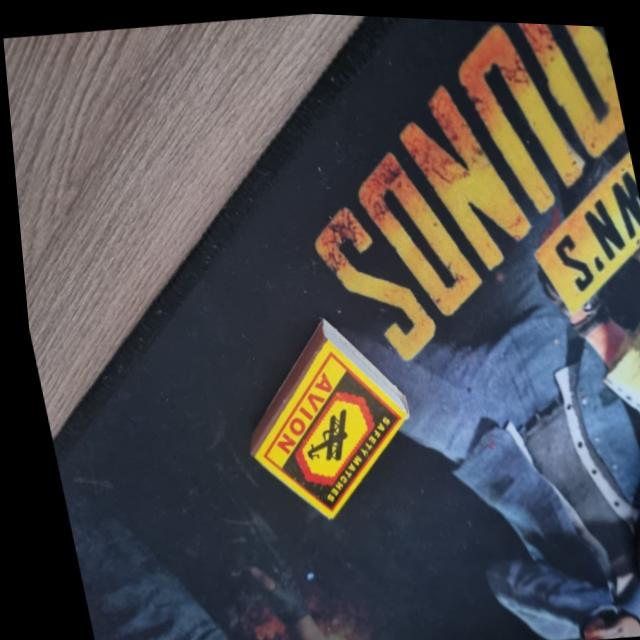match: (212, 302, 424, 532)
